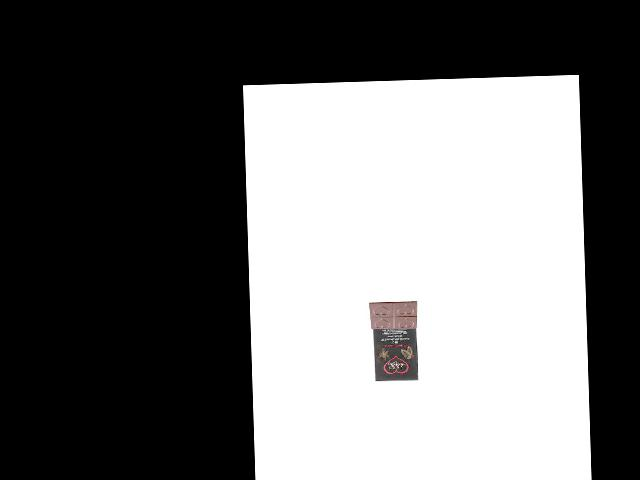chocolate: (365, 297, 421, 382)
